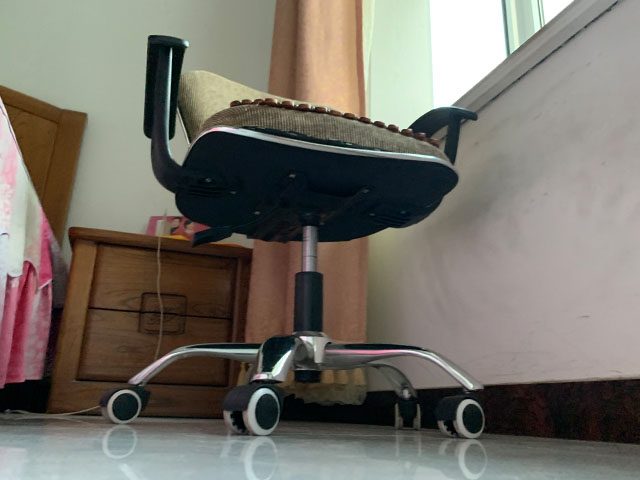bed: (1, 83, 89, 405)
cabinet: (44, 226, 252, 419)
curtain: (236, 1, 369, 407)
stool: (98, 34, 485, 440)
wire: (4, 209, 166, 418)
